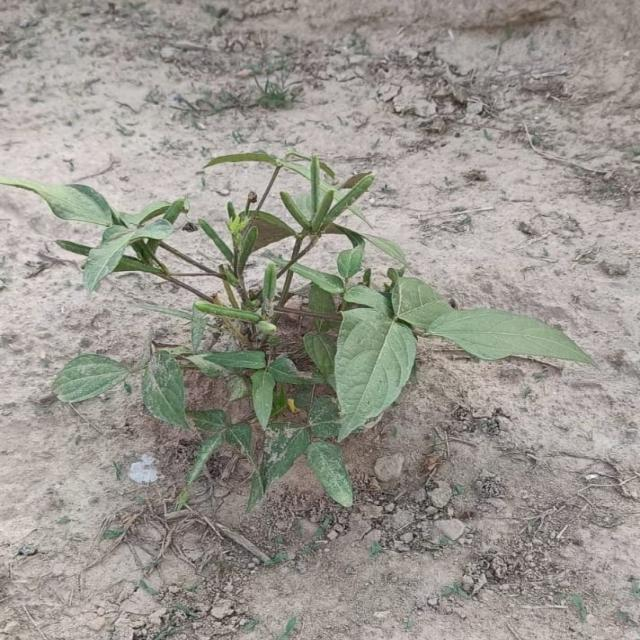plant: (4, 151, 592, 506)
